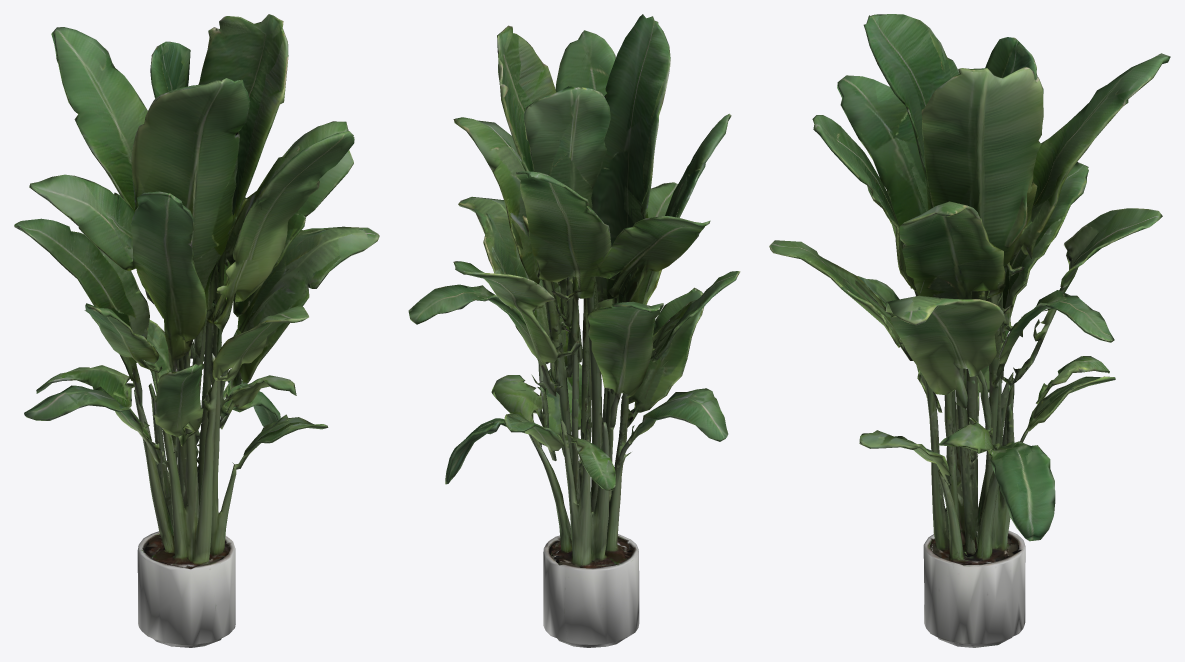
Rendered from Meshy_AI_Banana_Leaf_Elegance_0106214123_texture.fbx.
The picture shows the model from 3 angles, left to right: view 1: azimuth 30°, elevation 25°; view 2: azimuth 150°, elevation 25°; view 3: azimuth 270°, elevation 25°; orthographic projection. The views are drawn at different scales.
Visible parts, largest first — view 1: Mesh_0; view 2: Mesh_0; view 3: Mesh_0.
Boxes of the visible parts, x1,y1,x2,y2 form: Mesh_0: (14,14,379,647); Mesh_0: (408,14,740,647); Mesh_0: (769,14,1170,647).
Size of the model in its own units: 106 by 192 by 114.
1 material, 1 textured.
